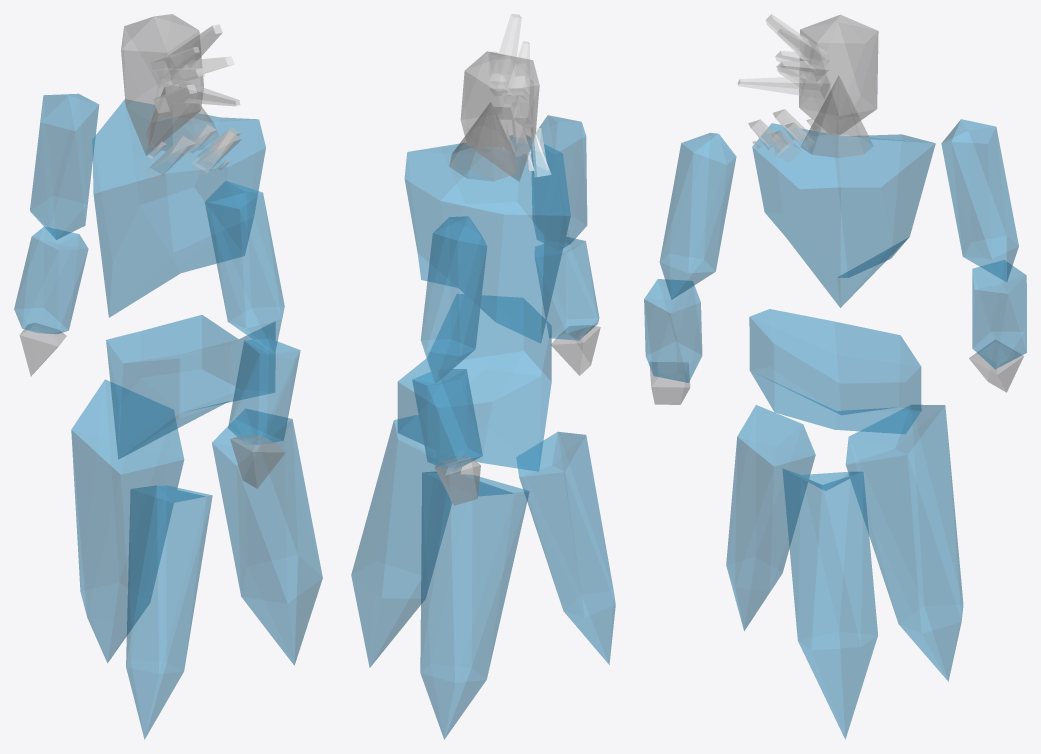
File: ghostIdle14.obj
3 views of the same model, side by side, from view 1: azimuth 30°, elevation 25°; view 2: azimuth 150°, elevation 25°; view 3: azimuth 270°, elevation 25° (orthographic). The views are drawn at different scales.
Visible parts, largest first — view 1: Cube.001_Cube.001, Icosphere.005, Icosphere.004, Cube_Cube.002, Icosphere.003, Icosphere.005_Icosphere.001, Icosphere.003_Icosphere.001, Icosphere.007_Icosphere.001, Icosphere.008_Icosphere.001, Icosphere.006_Icosphere.001, Cone_Cone.002, Cube.002_Cube.001 (+9 smaller); view 2: Cube.001_Cube.001, Cube_Cube.002, Icosphere.005, Icosphere.004, Icosphere.003, Icosphere.007_Icosphere.001, Icosphere.003_Icosphere.001, Icosphere.005_Icosphere.001, Icosphere.008_Icosphere.001, Icosphere.006_Icosphere.001, Cone_Cone.002, Cube.003_Cube.001 (+5 smaller); view 3: Cube.001_Cube.001, Icosphere.005, Icosphere.004, Cube_Cube.002, Icosphere.003, Icosphere.005_Icosphere.001, Icosphere.007_Icosphere.001, Icosphere.003_Icosphere.001, Icosphere.006_Icosphere.001, Icosphere.008_Icosphere.001, Cone_Cone.002, Cube.003_Cube.001 (+4 smaller).
Part boxes in pixels (x1=…): Cube.001_Cube.001: x1=92, y1=99, x2=265, y2=317; Icosphere.005: x1=71, y1=379, x2=184, y2=662; Icosphere.004: x1=212, y1=409, x2=322, y2=665; Cube_Cube.002: x1=106, y1=315, x2=275, y2=459; Icosphere.003: x1=126, y1=485, x2=212, y2=739; Icosphere.005_Icosphere.001: x1=205, y1=181, x2=284, y2=353; Icosphere.003_Icosphere.001: x1=121, y1=14, x2=203, y2=155; Icosphere.007_Icosphere.001: x1=30, y1=93, x2=99, y2=239; Icosphere.008_Icosphere.001: x1=14, y1=227, x2=88, y2=334; Icosphere.006_Icosphere.001: x1=228, y1=338, x2=300, y2=444; Cone_Cone.002: x1=146, y1=87, x2=218, y2=150; Cube.002_Cube.001: x1=230, y1=436, x2=285, y2=488; Cube.001_Cube.001: x1=404, y1=135, x2=570, y2=343; Cube_Cube.002: x1=397, y1=294, x2=551, y2=471; Icosphere.005: x1=420, y1=471, x2=529, y2=739; Icosphere.004: x1=351, y1=415, x2=461, y2=667; Icosphere.003: x1=516, y1=431, x2=615, y2=664; Icosphere.007_Icosphere.001: x1=420, y1=216, x2=487, y2=383; Icosphere.003_Icosphere.001: x1=460, y1=51, x2=539, y2=181; Icosphere.005_Icosphere.001: x1=531, y1=115, x2=587, y2=250; Icosphere.008_Icosphere.001: x1=412, y1=369, x2=482, y2=471; Icosphere.006_Icosphere.001: x1=535, y1=237, x2=599, y2=340; Cone_Cone.002: x1=449, y1=102, x2=515, y2=181; Cube.003_Cube.001: x1=435, y1=455, x2=480, y2=505; Cube.001_Cube.001: x1=752, y1=123, x2=935, y2=307; Icosphere.005: x1=845, y1=404, x2=963, y2=681; Icosphere.004: x1=782, y1=468, x2=877, y2=739; Cube_Cube.002: x1=749, y1=309, x2=921, y2=434; Icosphere.003: x1=726, y1=405, x2=815, y2=630; Icosphere.005_Icosphere.001: x1=659, y1=132, x2=736, y2=299; Icosphere.007_Icosphere.001: x1=941, y1=119, x2=1018, y2=281; Icosphere.003_Icosphere.001: x1=799, y1=14, x2=878, y2=134; Icosphere.006_Icosphere.001: x1=644, y1=279, x2=702, y2=382; Icosphere.008_Icosphere.001: x1=972, y1=260, x2=1026, y2=369; Cone_Cone.002: x1=800, y1=75, x2=873, y2=157; Cube.003_Cube.001: x1=969, y1=340, x2=1023, y2=392.
Bounding box in the file's own units: 16.66 × 49.26 × 25.37.
